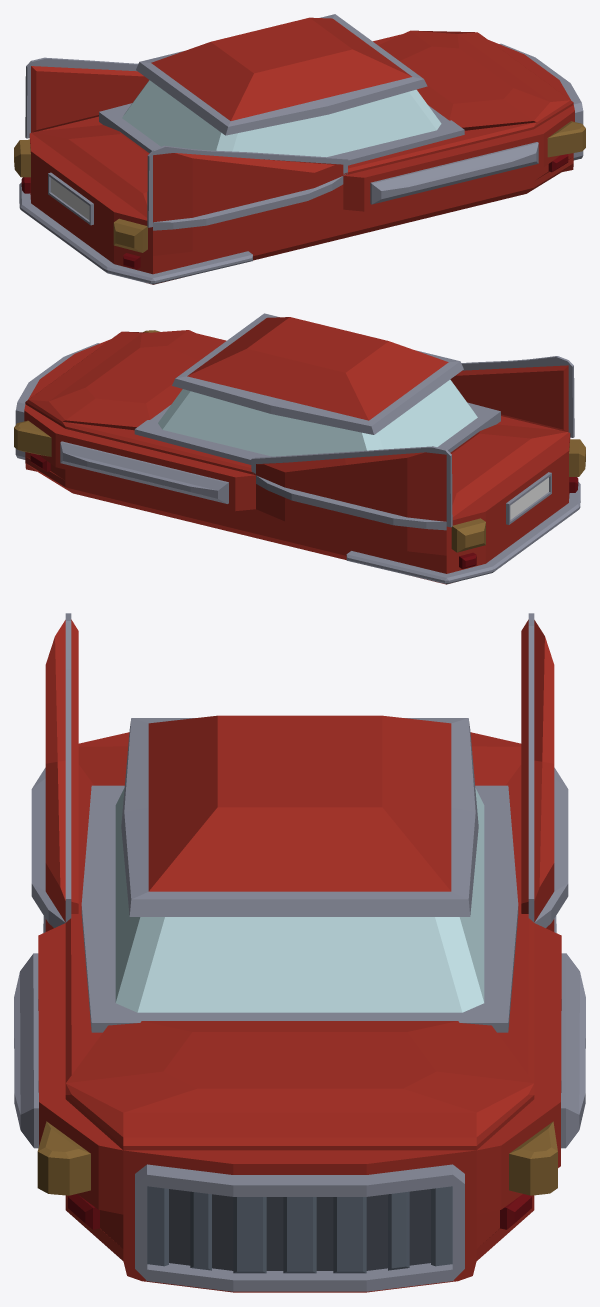
Rendered from futureCar.fbx.
3 renders of one model, top to bottom at view 1: azimuth 30°, elevation 25°; view 2: azimuth 150°, elevation 25°; view 3: azimuth 270°, elevation 25°, orthographic. The views are drawn at different scales.
Visible parts, largest first — view 1: FlyingCar; view 2: FlyingCar; view 3: FlyingCar.
Boxes of the visible parts, x1,y1,x2,y2 form: FlyingCar: (14,14,585,284); FlyingCar: (14,313,585,584); FlyingCar: (14,613,585,1292).
Bounding box in the file's own units: 3050 × 1027 × 1622.
